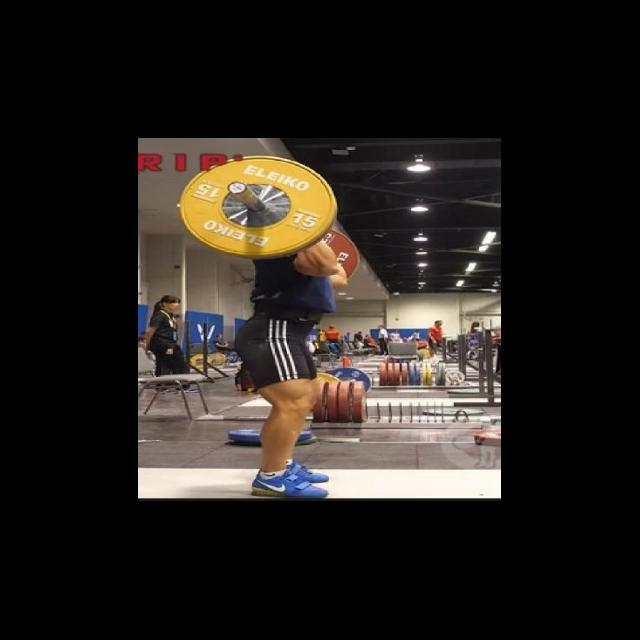barbell: (177, 153, 339, 263)
